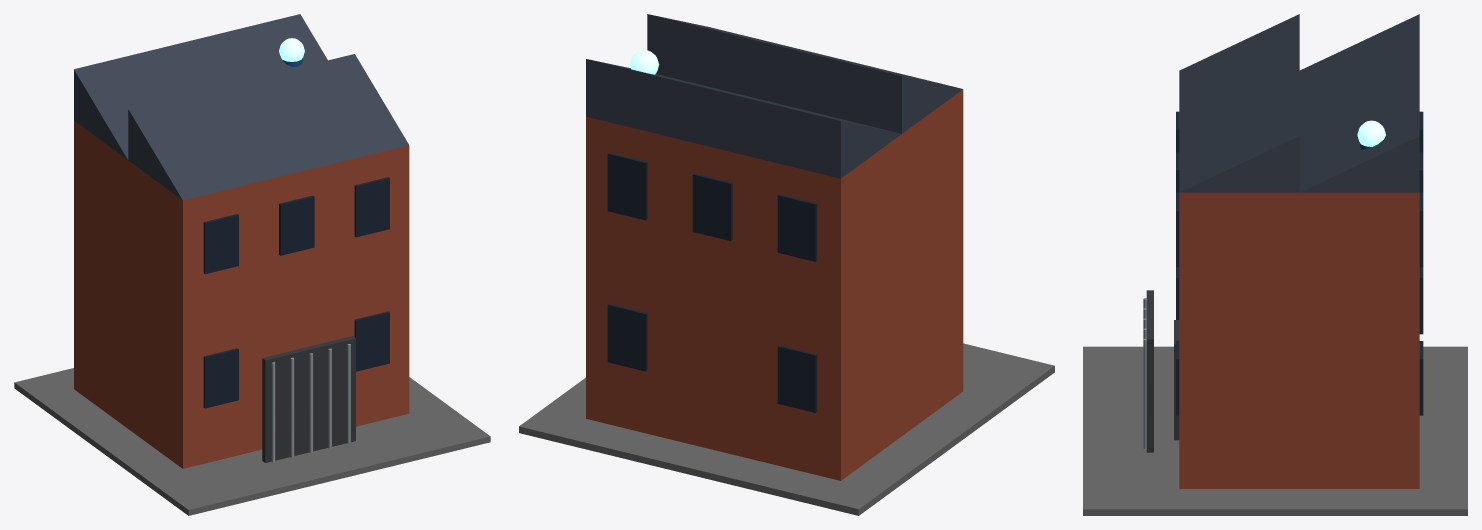
Rendered from bld_special_police_a05.glb.
3 renders of one model, left to right at view 1: azimuth 30°, elevation 25°; view 2: azimuth 150°, elevation 25°; view 3: azimuth 270°, elevation 25°, orthographic. The views are drawn at different scales.
Parts seen in each view (by area): view 1: body; view 2: body; view 3: body.
Part boxes in pixels (x1,y1,x2,y2): body: (14,14,490,515); body: (519,14,1054,515); body: (1083,14,1467,515).
Size of what is drawn, in the model's own units: 8 by 8.25 by 8.
